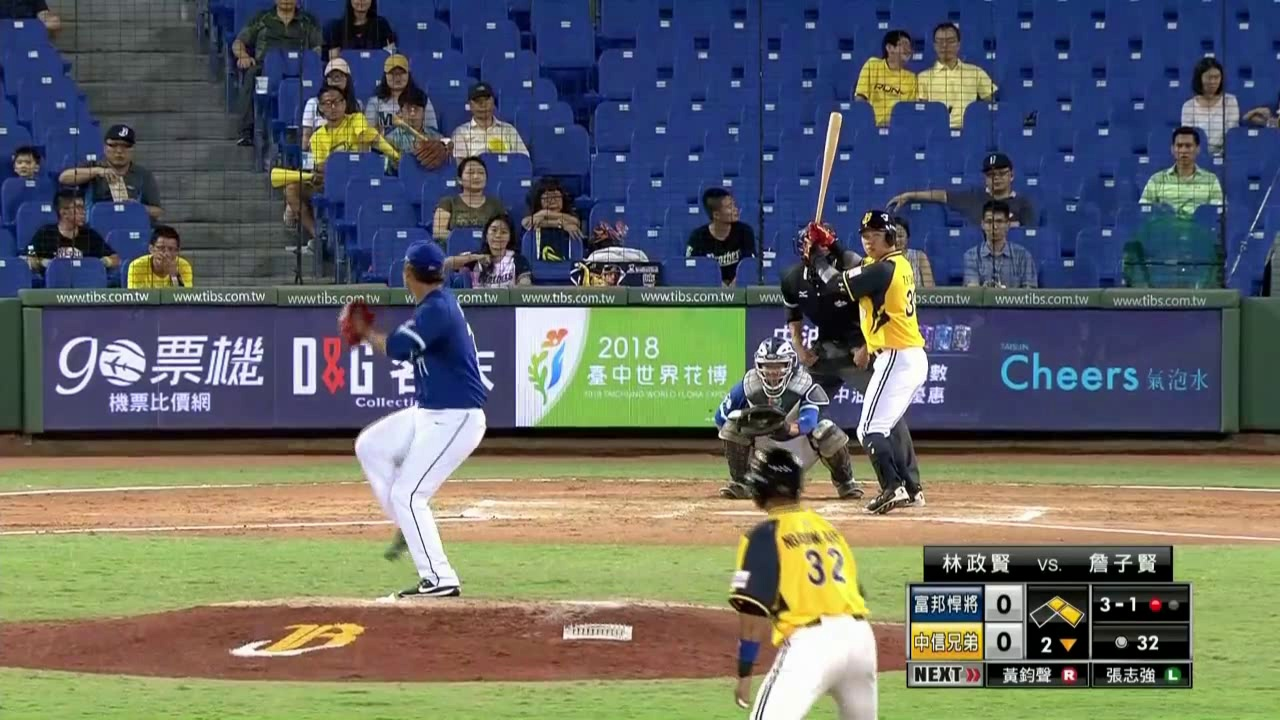base: (1030, 594, 1086, 630)
bat: (813, 107, 845, 221)
out: (1139, 588, 1182, 619)
score1: (987, 587, 1019, 618)
score2: (986, 626, 1022, 655)
session: (1029, 629, 1087, 660)
strikeball: (1094, 588, 1139, 620)
total: (1094, 628, 1188, 661)
